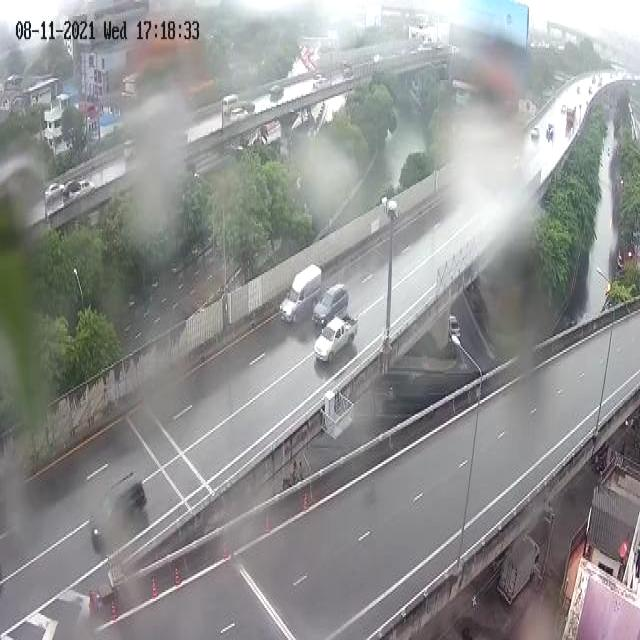Car: (85, 462, 149, 546), (317, 312, 357, 368), (314, 278, 348, 330), (70, 172, 96, 205), (310, 70, 328, 92), (232, 108, 250, 125)
Van: (492, 525, 548, 603), (274, 248, 322, 324), (218, 88, 240, 117), (262, 80, 286, 105)
